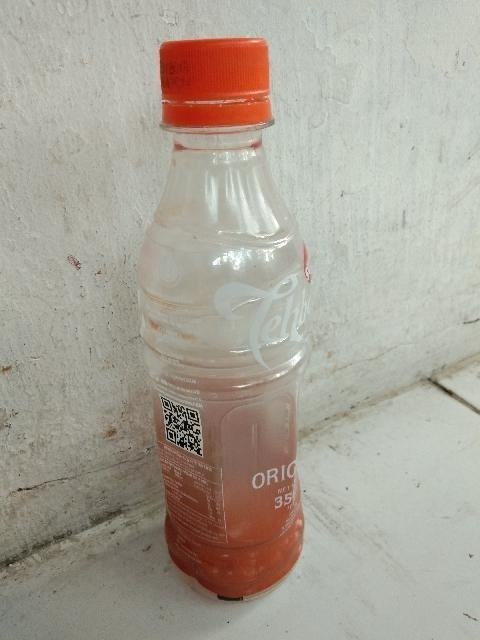bottle-plastic: (132, 33, 310, 602)
